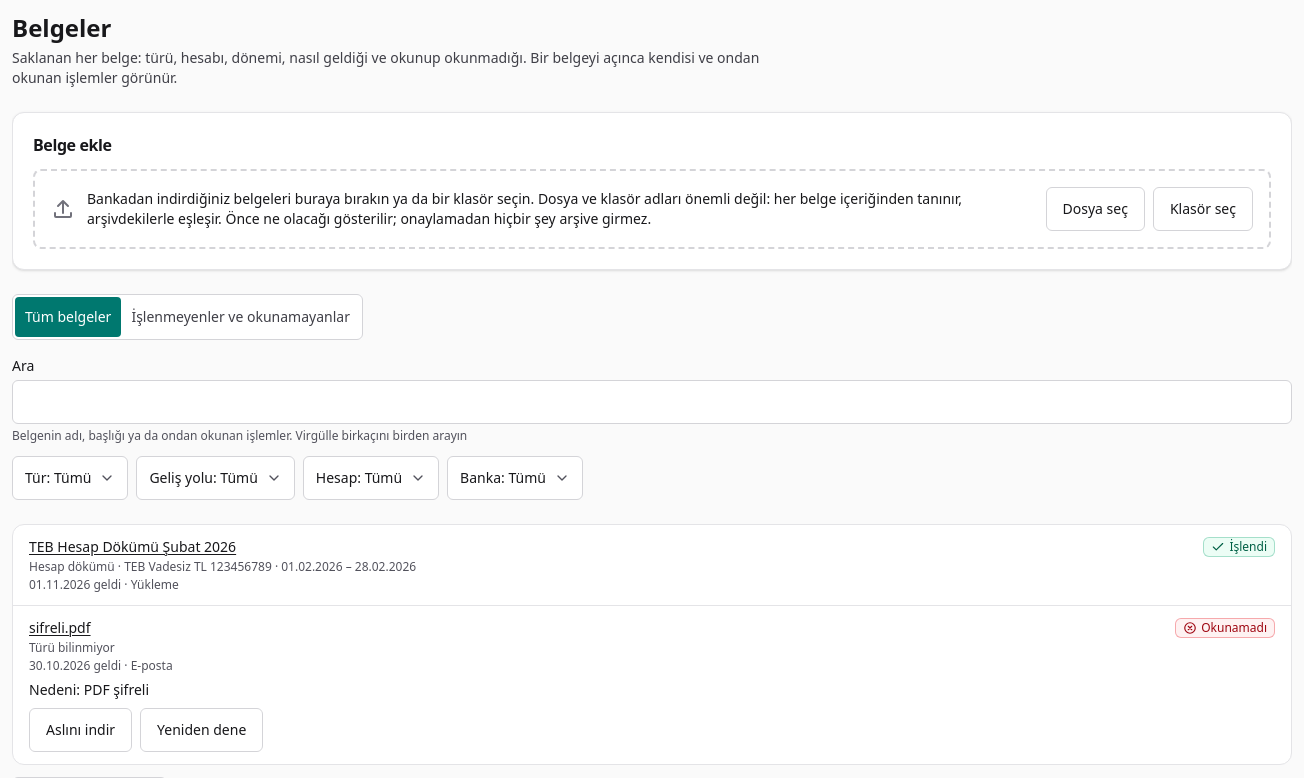
Test: DocumentsPage: what was not read › opens the tab of what was not read, each with why, its original and a reading to try again
Click the radio button labelled "İşlenmeyenler ve okunamayanlar" at (241, 316), box top-left (131, 307), bottom-right (350, 326)
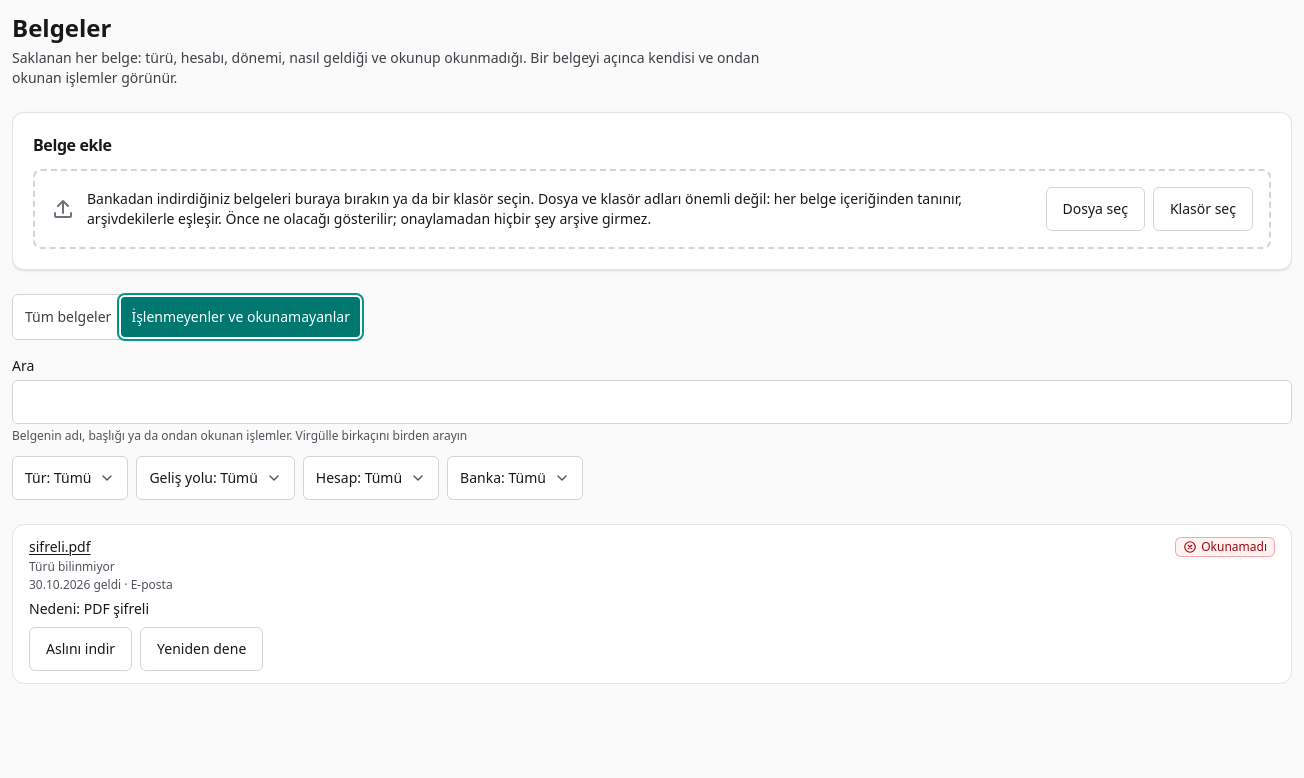
Expected: the link "TEB Hesap Dökümü Şubat 2026" is gone
Click the button with aria-label "Yeniden dene: sifreli.pdf" at (202, 649), box top-left (140, 627), bottom-right (263, 671)
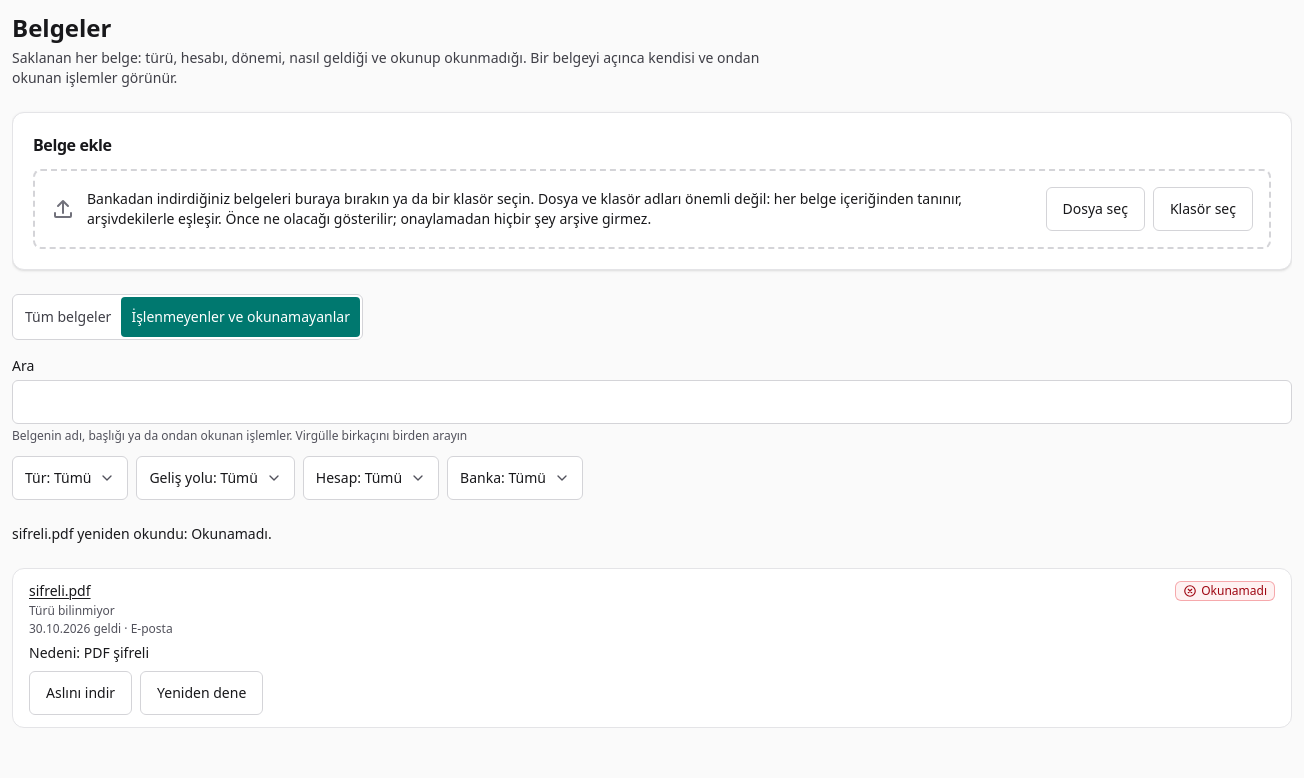
Expected: the text "sifreli.pdf yeniden okundu: Okunamadı." is shown, top-left (12, 524), bottom-right (272, 543)
